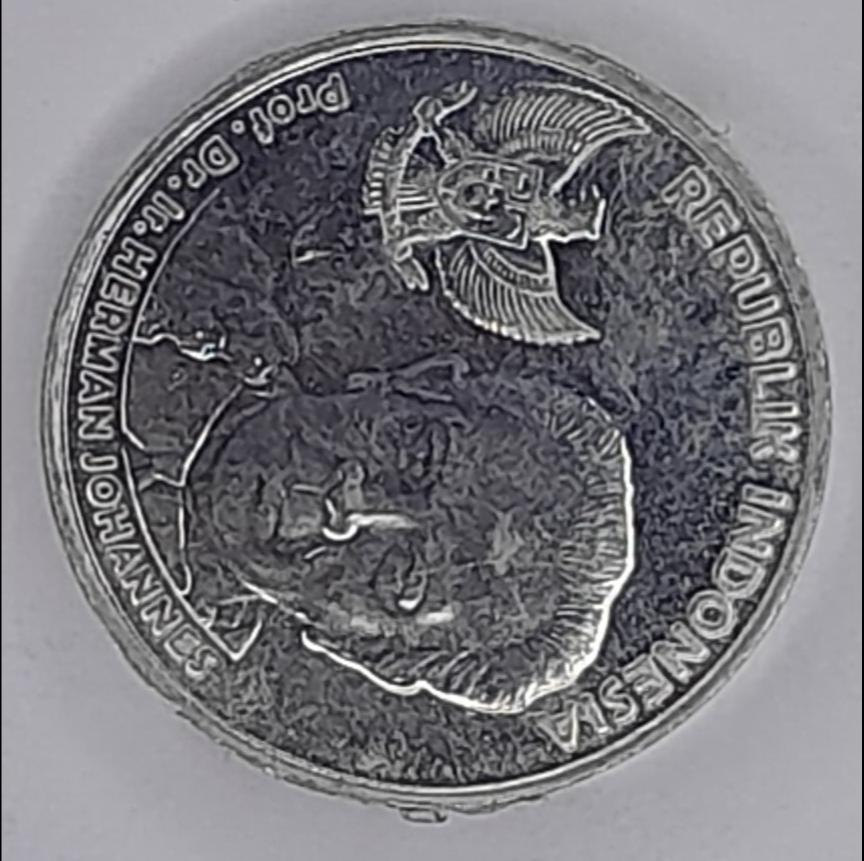coin_100_e2016: (34, 14, 837, 823)
